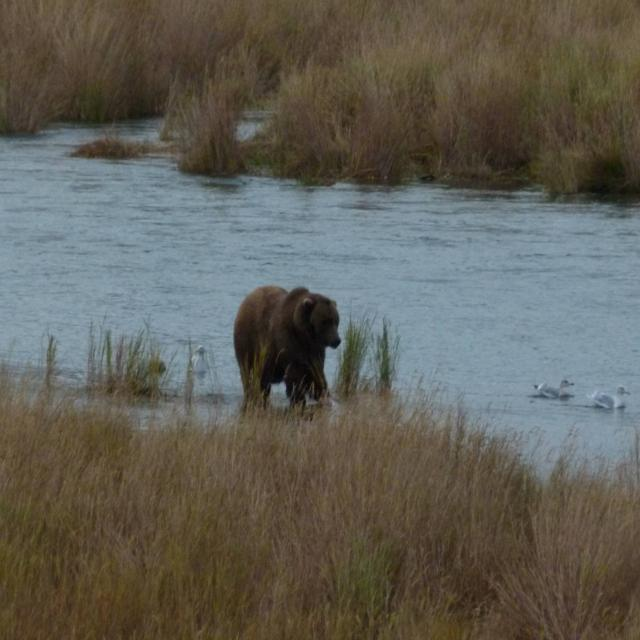bear face: (233, 287, 342, 405)
